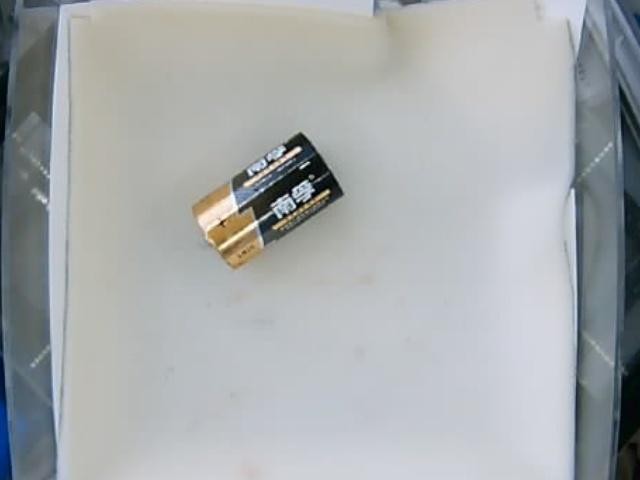Battery: (192, 133, 344, 270)
